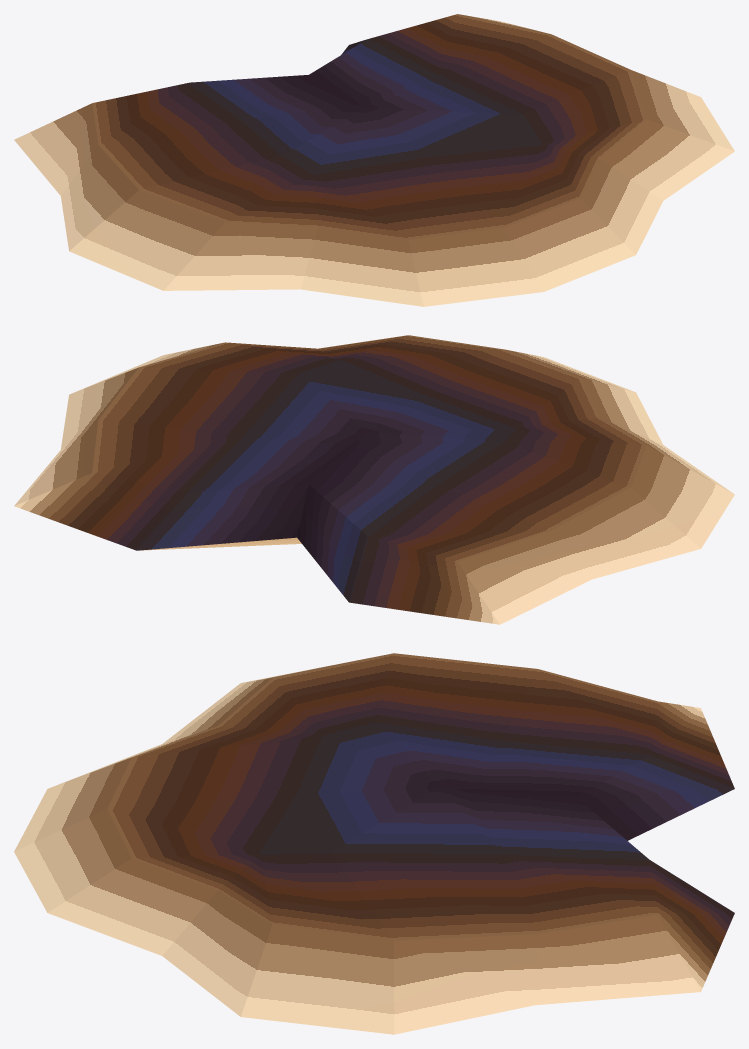
The model's file is largefull_TurkeyTail.glb.
The picture shows the model from 3 angles, top to bottom: view 1: azimuth 30°, elevation 25°; view 2: azimuth 150°, elevation 25°; view 3: azimuth 270°, elevation 25°; orthographic projection. The views are drawn at different scales.
Parts seen in each view (by area): view 1: Turkey_largefull; view 2: Turkey_largefull; view 3: Turkey_largefull.
Boxes of the visible parts, left/top/right/bottom form: Turkey_largefull: left=14, top=14, right=734, bottom=306; Turkey_largefull: left=14, top=335, right=734, bottom=624; Turkey_largefull: left=14, top=653, right=734, bottom=1034.
Size of the model in its own units: 4.28 by 0.4784 by 3.53.
Materials: 1 (1 with a texture image).
